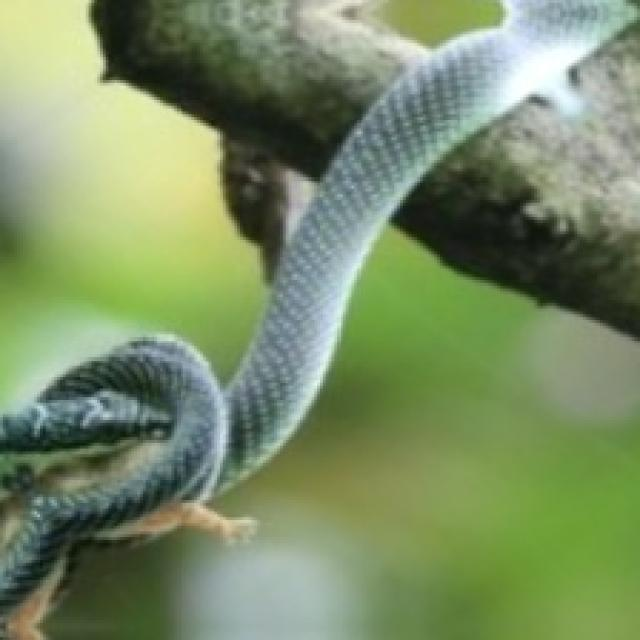paradise tree snake: (46, 226, 637, 637), (0, 0, 266, 409)
